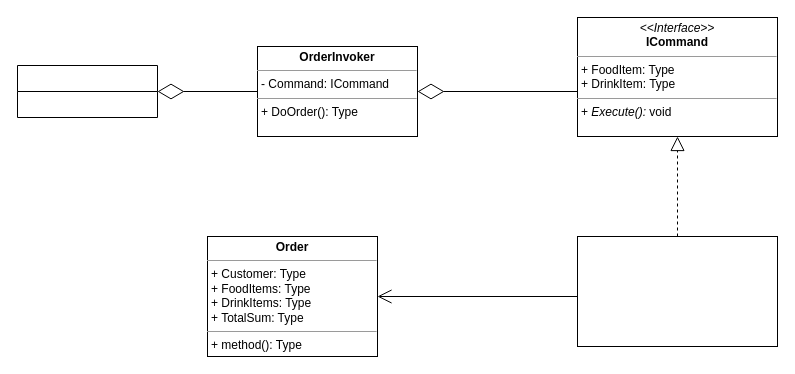
The diagram is 795 pixels wide and 374 high, and some of its shapes have lost their labels. The centre of each missing label's shape, as x and y in pixels:
"Client" belongs at (x=87, y=91).
"OrderCommand - Order: Type + FoodItem: Type + DrinkItem: Type + Execute(): Type" belongs at (x=677, y=291).
